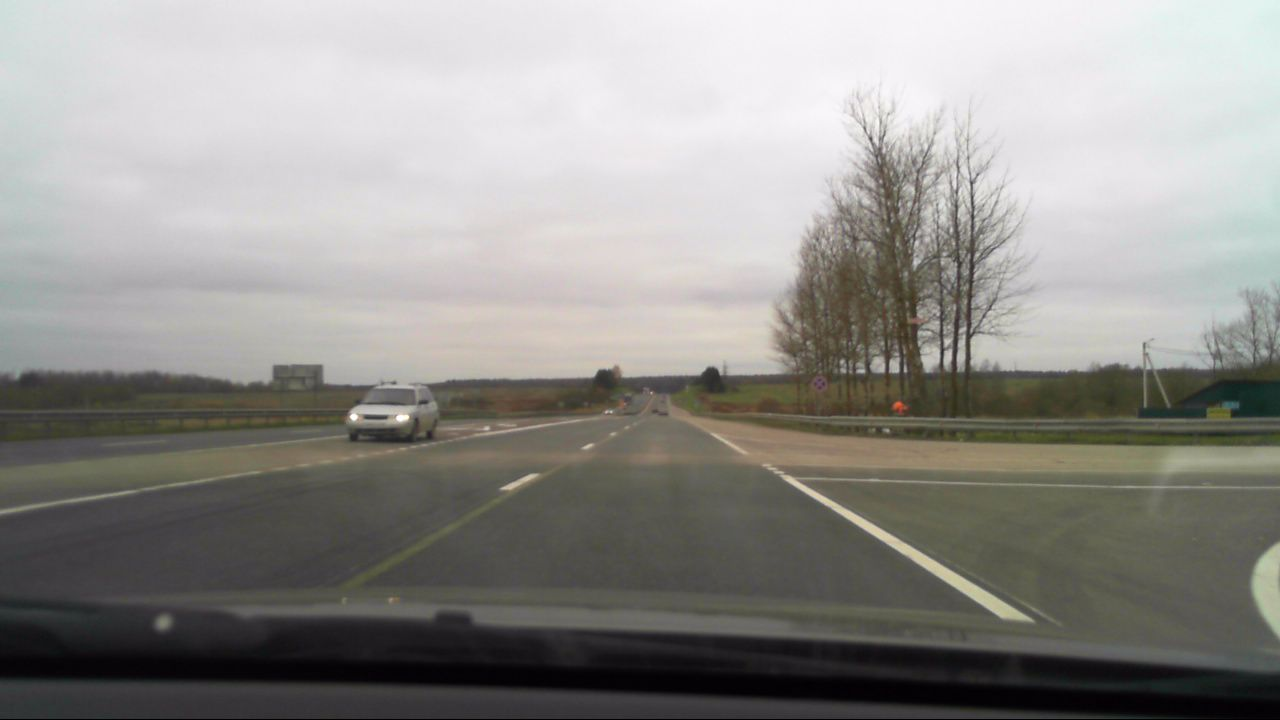No Parking: (810, 375, 830, 394)
